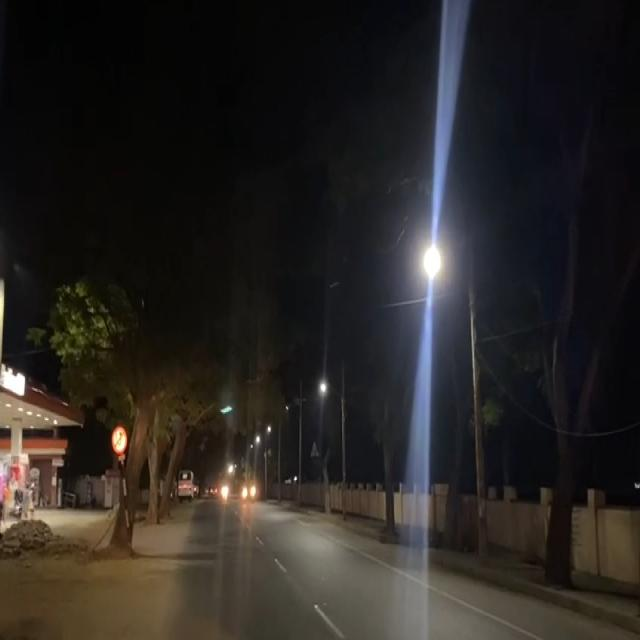bien_cam: (109, 423, 129, 454)
